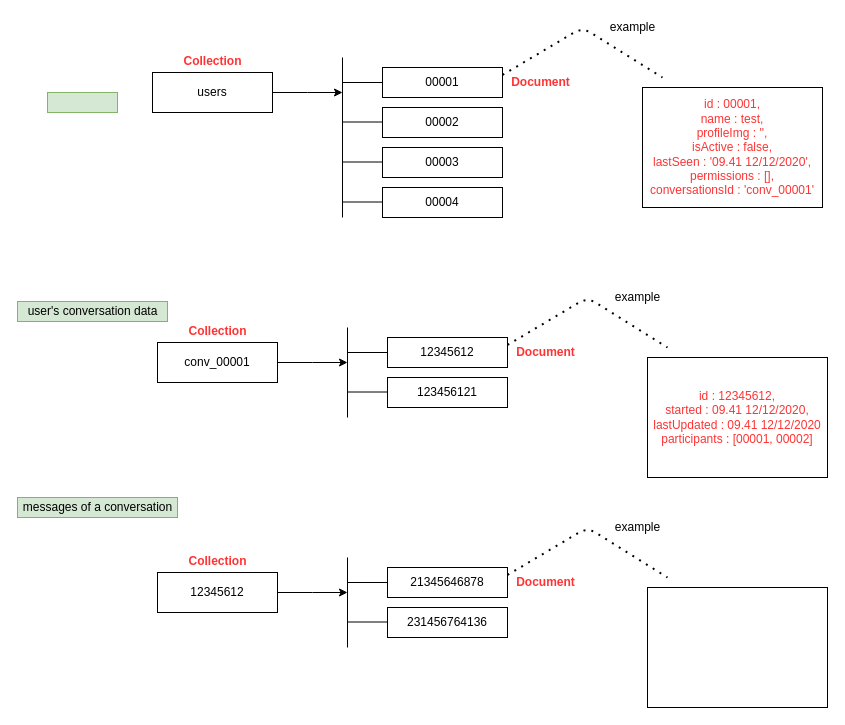
Image size: 845x725. Some labels were removed from this diagram. The shapes that lost their labels are listed below. From the top down, each one's box as (x1, y1, x2, y2) in pixels, then its label:
(46, 92, 118, 112): User data
(646, 586, 828, 708): id : 21345646878, content: Hello world, senderId: 00001 time : 09.41 12/12/2020
